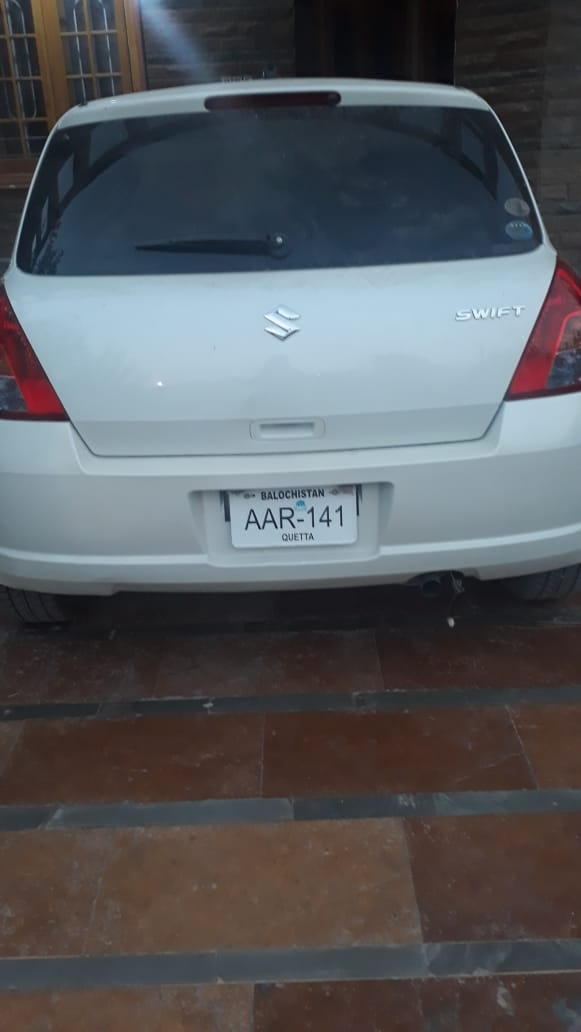license plate: (228, 492, 361, 545)
